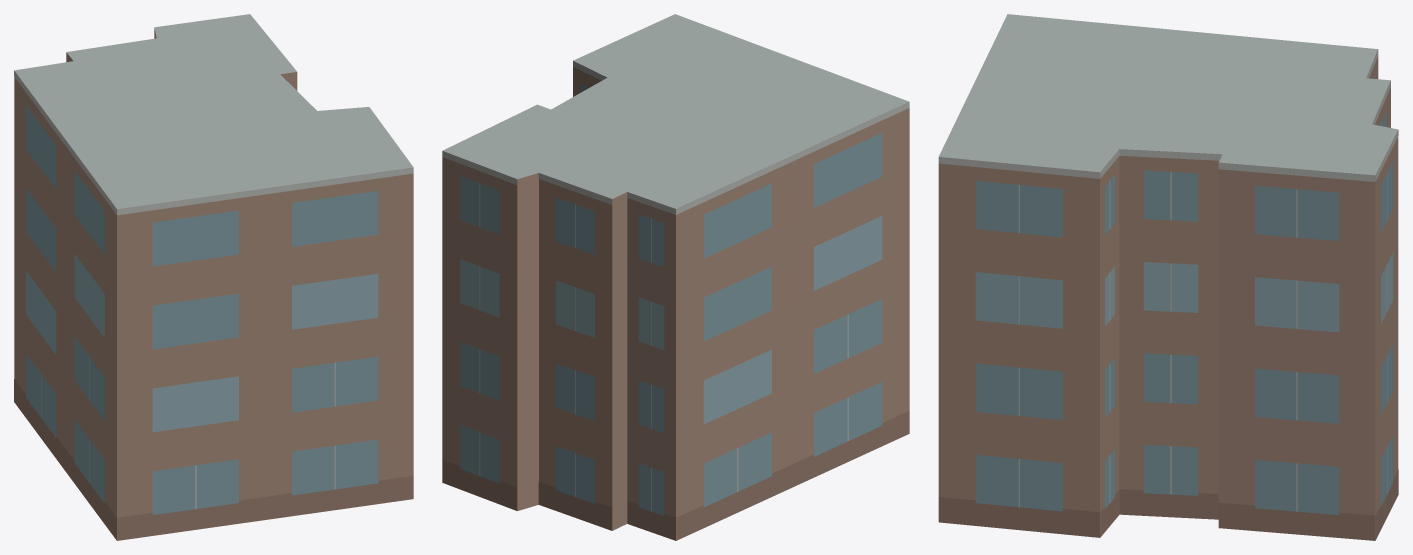
The model's file is survey-upis-32606590.glb.
3 renders of one model, left to right at view 1: azimuth 30°, elevation 25°; view 2: azimuth 150°, elevation 25°; view 3: azimuth 270°, elevation 25°, orthographic. The views are drawn at different scales.
Parts seen in each view (by area): view 1: survey-upis-32606590.tmp; view 2: survey-upis-32606590.tmp; view 3: survey-upis-32606590.tmp.
Boxes of the visible parts, <box> form: survey-upis-32606590.tmp: <box>14,14,413,540</box>; survey-upis-32606590.tmp: <box>442,14,909,540</box>; survey-upis-32606590.tmp: <box>938,14,1398,540</box>.
Bounding box in the file's own units: 12.7 × 13.4 × 15.29.
